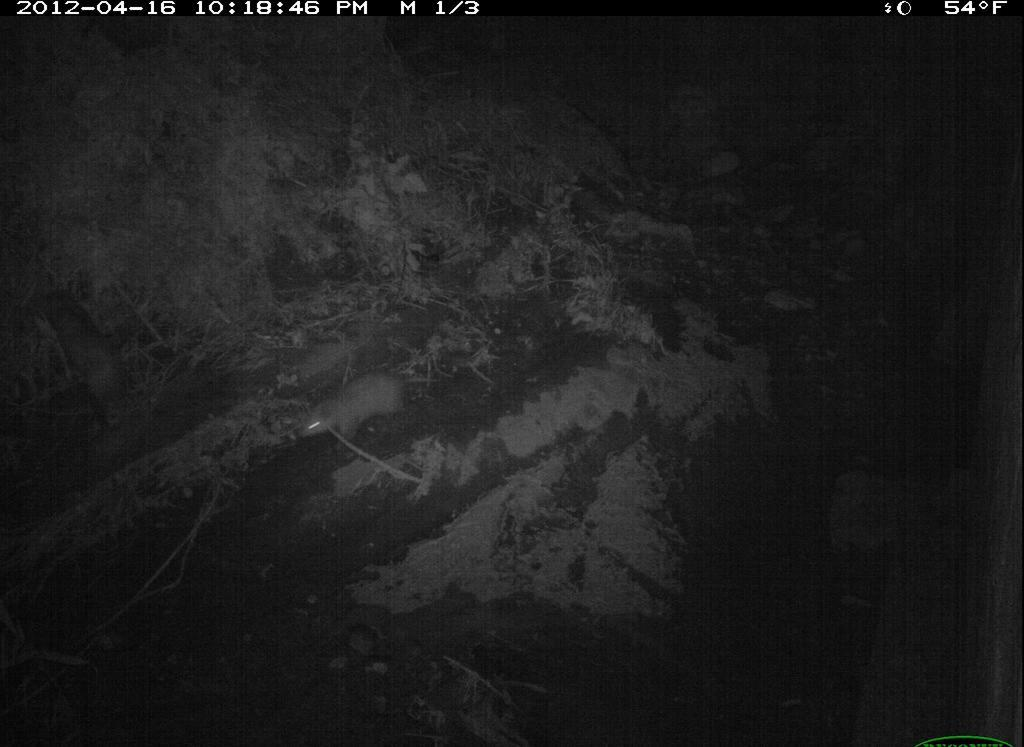opossum: (292, 364, 451, 456)
